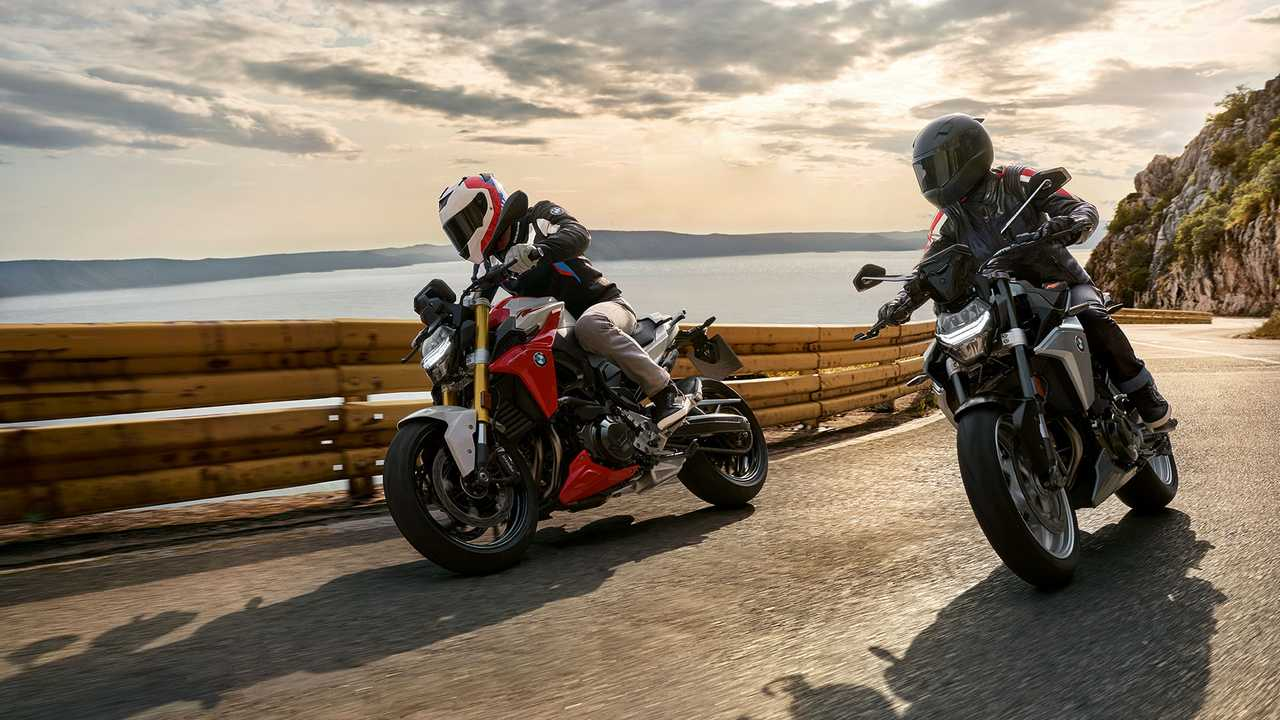motorcycle: (853, 172, 1181, 584), (383, 253, 768, 574)
